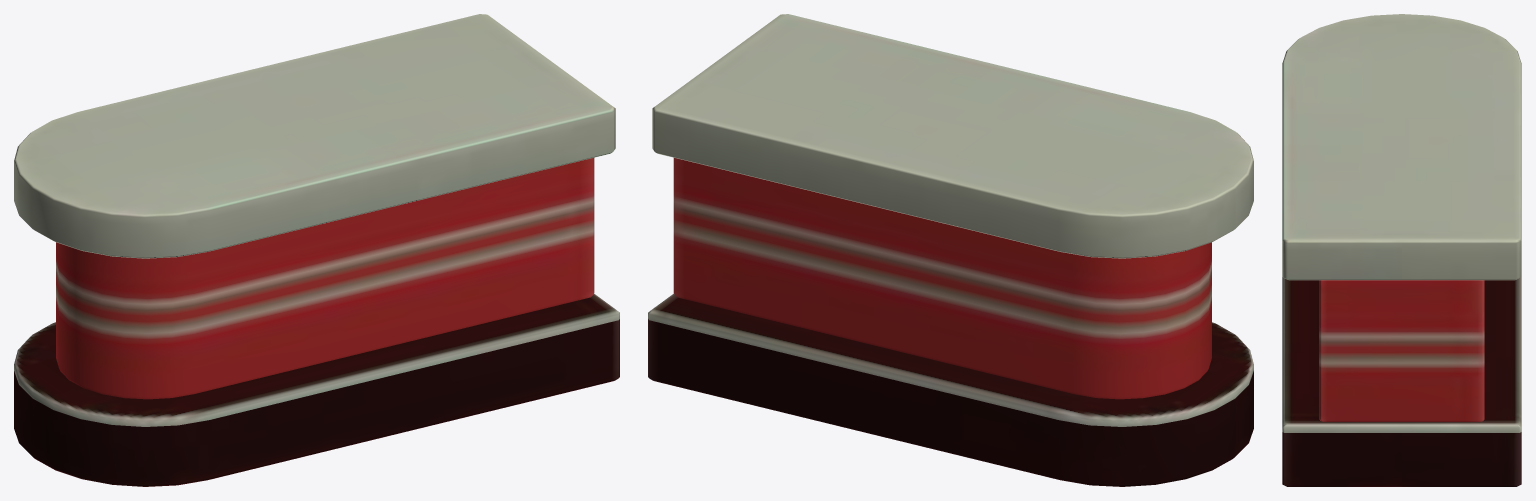
3 views of the same model, side by side, from view 1: azimuth 30°, elevation 25°; view 2: azimuth 150°, elevation 25°; view 3: azimuth 270°, elevation 25° (orthographic). The views are drawn at different scales.
Size of the model in its own units: 19.24 by 9.61 by 8.48.
1 material, 1 textured.
